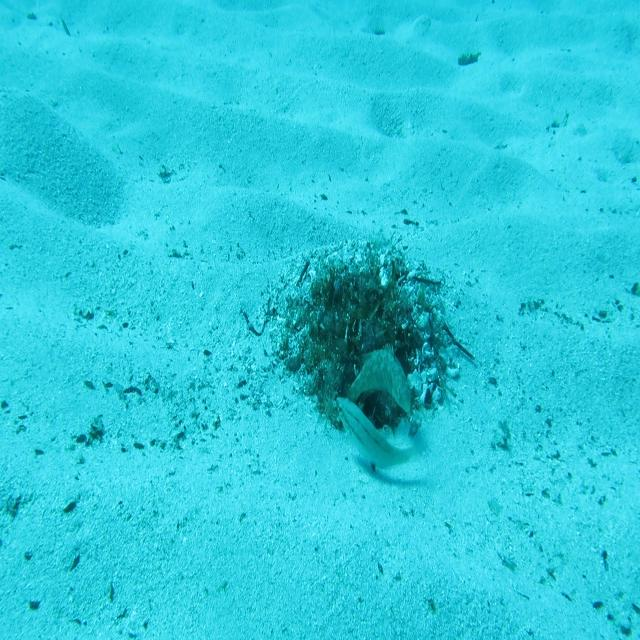DAN_CIRC: (345, 341, 412, 416)
core_nest: (336, 284, 378, 337)
female: (334, 393, 430, 477)
nest: (253, 211, 468, 465)
vegetation: (455, 48, 481, 68)
